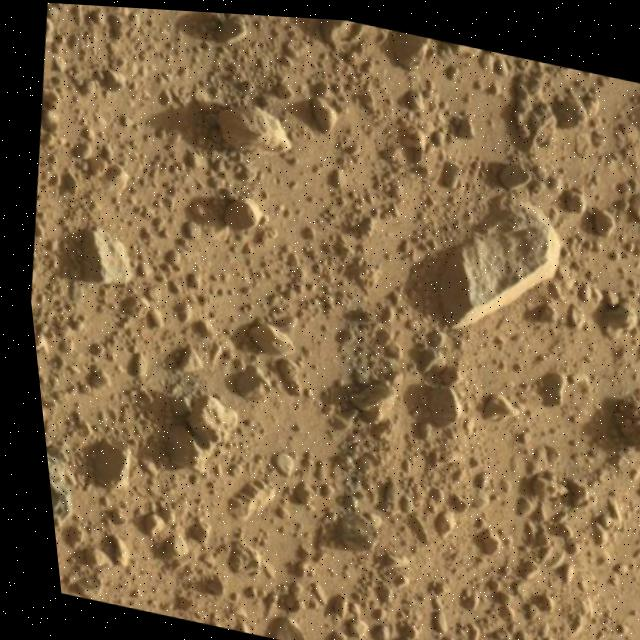mars-rocks: (433, 189, 554, 322), (213, 101, 287, 148), (37, 454, 58, 527)
